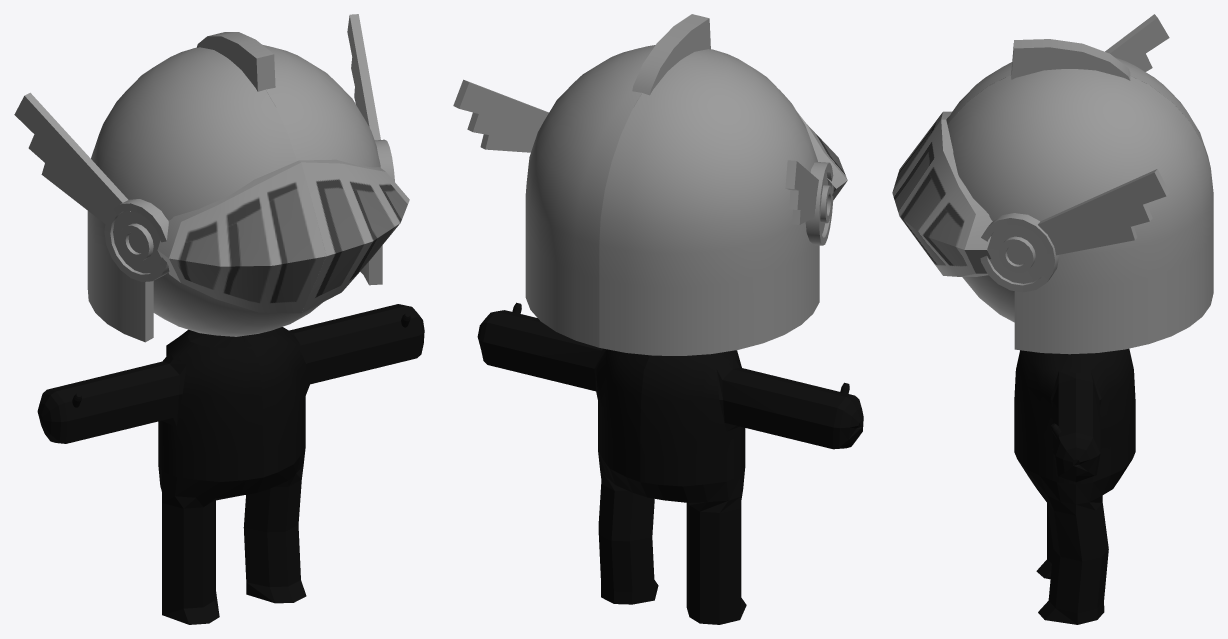
The model's file is yongsa_ad.fbx.
3 renders of one model, left to right at view 1: azimuth 30°, elevation 25°; view 2: azimuth 150°, elevation 25°; view 3: azimuth 270°, elevation 25°, orthographic. The views are drawn at different scales.
Parts seen in each view (by area): view 1: Box003; view 2: Box003; view 3: Box003.
Part boxes in pixels (x1,y1,x2,y2): Box003: [14, 14, 424, 624]; Box003: [453, 14, 863, 624]; Box003: [892, 14, 1213, 624].
Bounding box in the file's own units: 37.35 × 53.16 × 28.15.
Materials: 1 (1 with a texture image).
